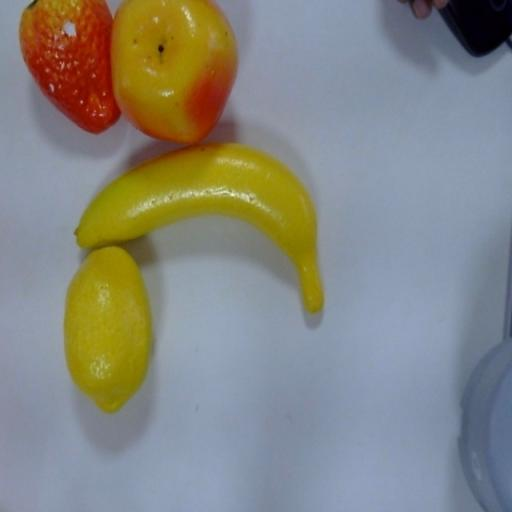Ripe: (57, 141, 381, 284), (57, 246, 184, 446), (113, 0, 263, 147), (20, 0, 122, 133)
